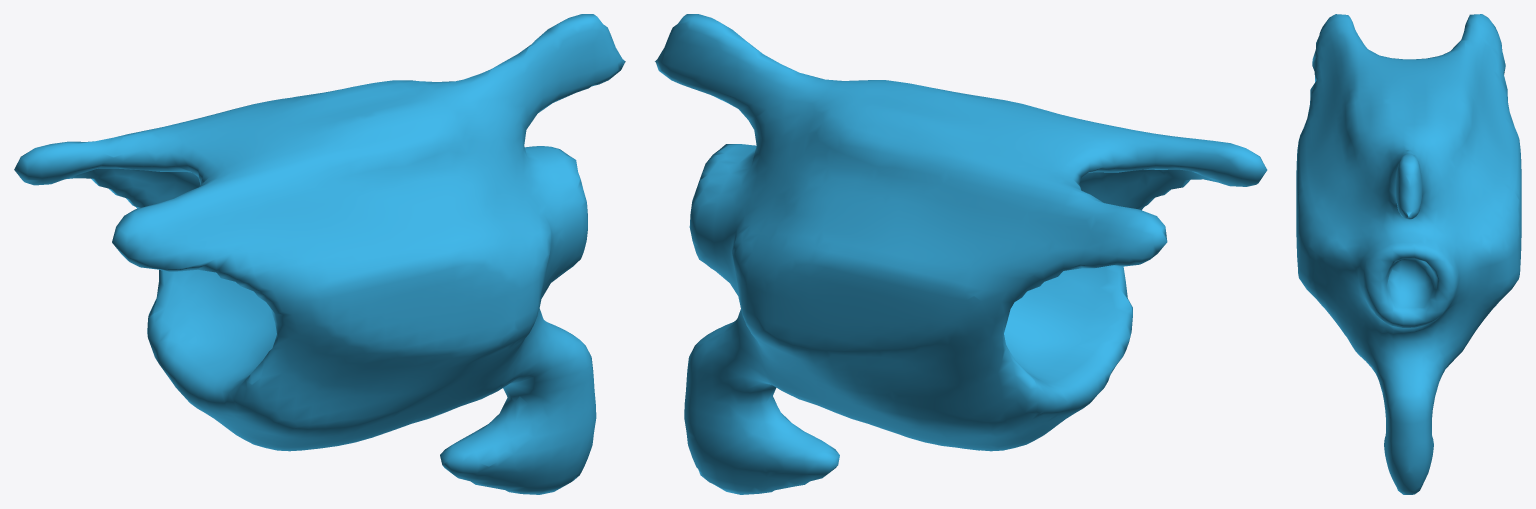
Rendered from Hookblaster-Weapon.fbx.
The picture shows the model from 3 angles, left to right: view 1: azimuth 30°, elevation 25°; view 2: azimuth 150°, elevation 25°; view 3: azimuth 270°, elevation 25°; orthographic projection. The views are drawn at different scales.
Parts seen in each view (by area): view 1: Hookblaster; view 2: Hookblaster; view 3: Hookblaster.
Boxes of the visible parts, x1,y1,x2,y2 form: Hookblaster: [14, 14, 625, 494]; Hookblaster: [655, 14, 1267, 494]; Hookblaster: [1296, 14, 1521, 494].
Bounding box in the file's own units: 0.8066 × 0.6367 × 0.3775.
